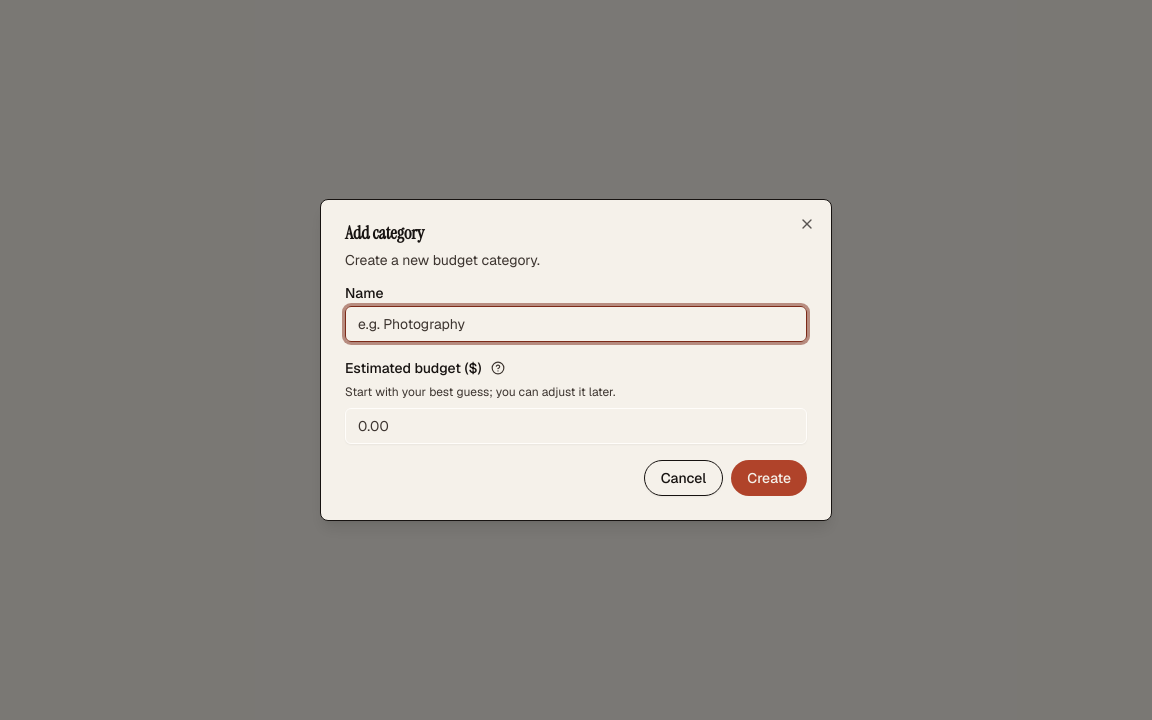
BudgetCategoryForm › validates required name
Click the button "Create" at (769, 478), box [731,460,807,496]
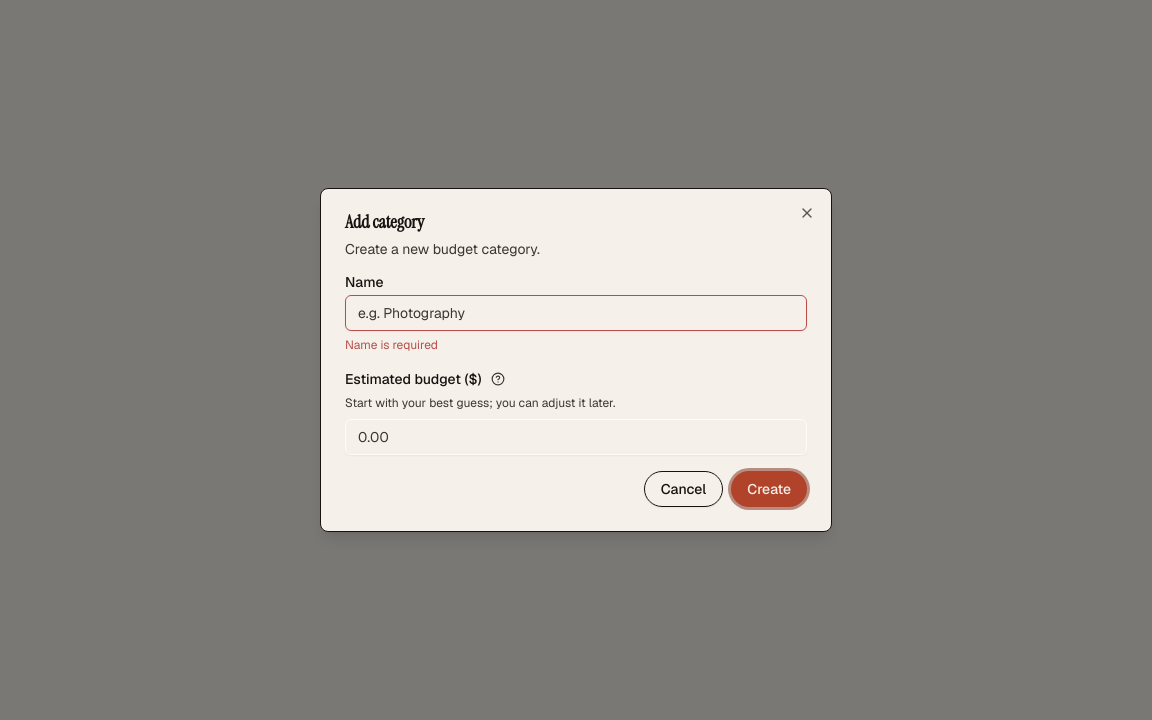
Expected: the message reads "Name is required", [345,337,438,353]
